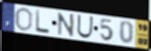0: (118, 20, 135, 45)
5: (99, 18, 115, 42)
L: (35, 8, 51, 35)
N: (56, 12, 76, 38)
O: (15, 7, 34, 32)
U: (76, 14, 94, 40)
